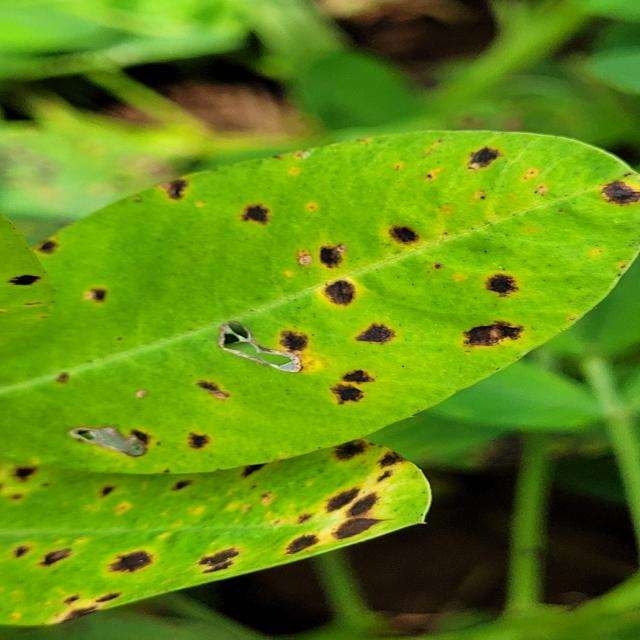Ground nut_tikka leaf spot: (12, 129, 637, 467), (6, 415, 432, 631)
